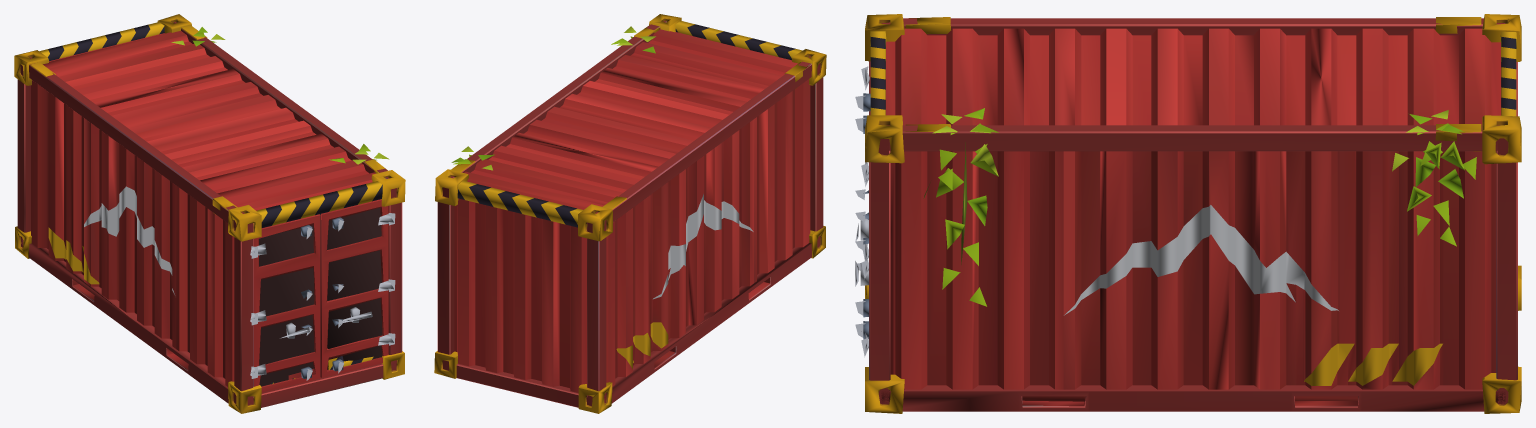
The model's file is container_red.glb.
3 renders of one model, left to right at view 1: azimuth 30°, elevation 25°; view 2: azimuth 150°, elevation 25°; view 3: azimuth 270°, elevation 25°, orthographic. The views are drawn at different scales.
Visible parts, largest first — view 1: shipping_container; view 2: shipping_container; view 3: shipping_container.
Boxes of the visible parts, x1,y1,x2,y2 form: shipping_container: (14, 14, 405, 413); shipping_container: (434, 14, 826, 413); shipping_container: (855, 14, 1521, 413).
Size of what is drawn, in the model's own units: 0.9193 by 0.9934 by 2.09.
